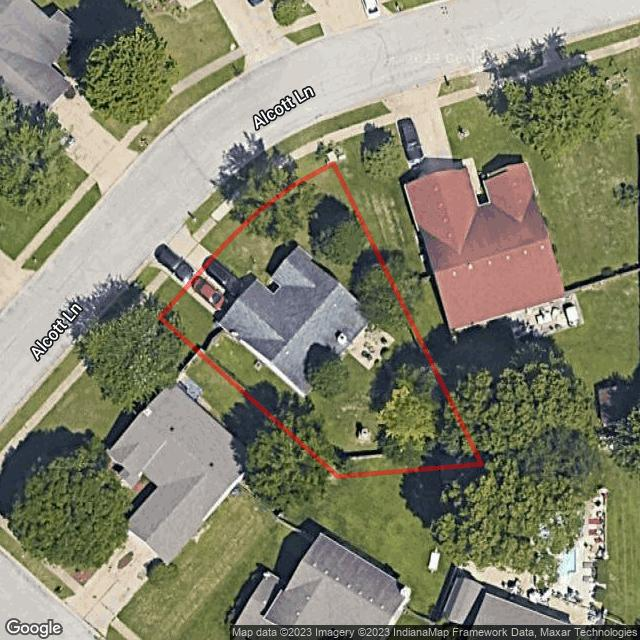Driveway: (185, 258, 258, 322)
Extra Driveway: (146, 221, 212, 289)
Extra Lawn: (185, 123, 324, 234), (201, 144, 334, 252), (142, 276, 181, 318), (123, 265, 163, 301)
Extra Sidewalk: (192, 136, 328, 242), (134, 269, 170, 307)
House: (219, 246, 366, 395)
Other: (347, 323, 395, 372), (359, 429, 371, 443)
